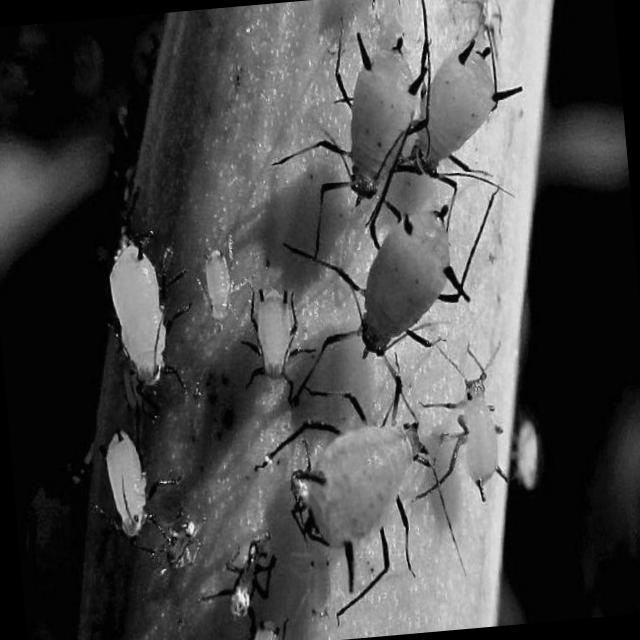Aphids: (277, 174, 499, 404), (267, 379, 449, 607), (269, 46, 447, 256), (100, 233, 186, 398), (232, 286, 317, 416), (445, 370, 516, 486), (100, 424, 158, 542), (198, 248, 239, 323)
